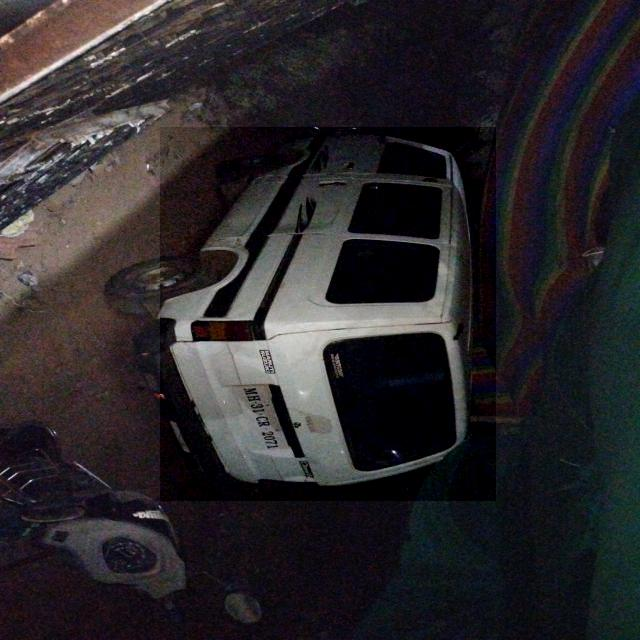Travller: (160, 128, 496, 502)
